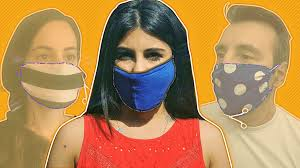FaceMask: (113, 57, 176, 111)
